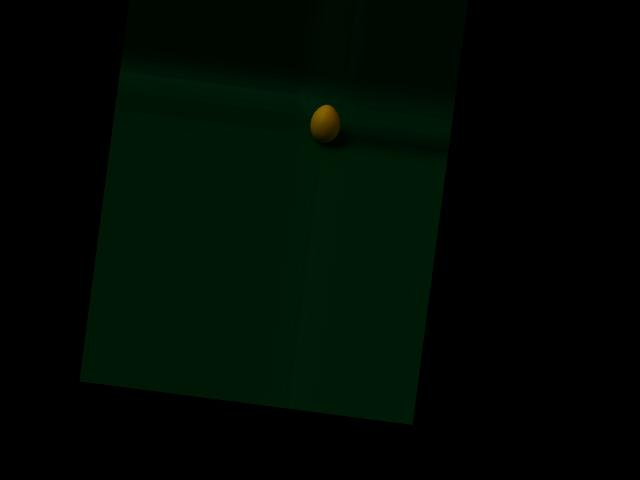egg: (307, 102, 341, 145)
